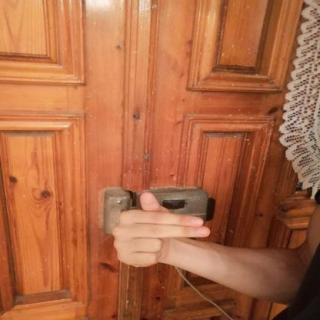GHAYN: (102, 186, 224, 272)
